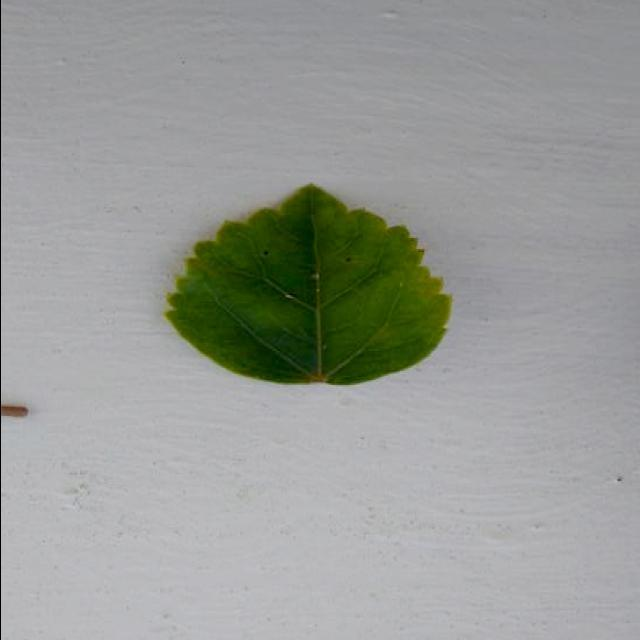leaf: (163, 181, 452, 386)
